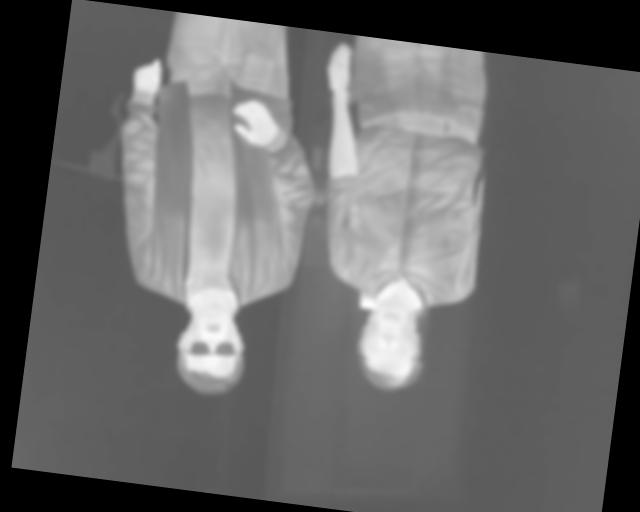face: (169, 296, 251, 401), (350, 292, 429, 395)
